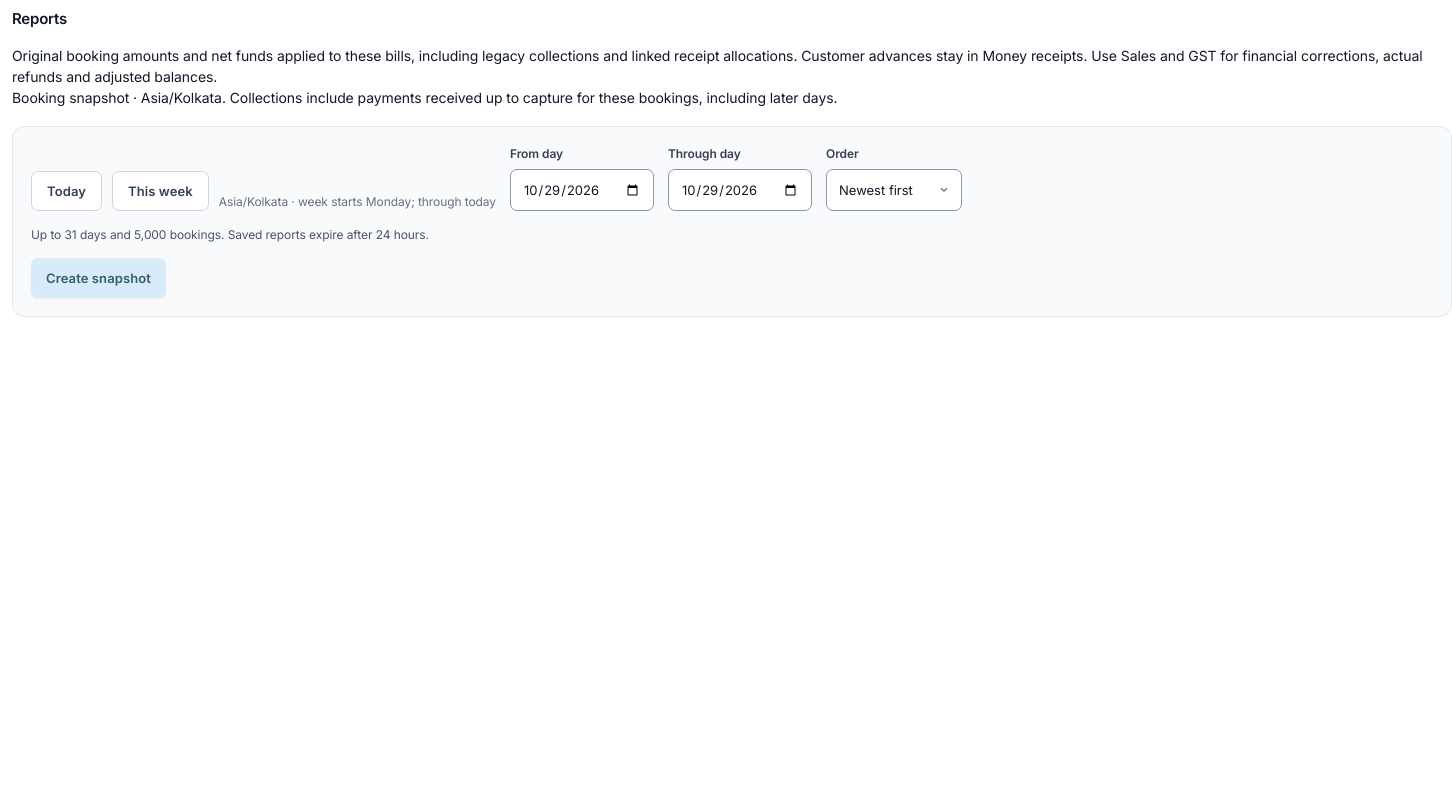
Test: saved report screen › keyboard form creates a snapshot and reloads its server totals with empty export
Type "2026-10-01" into the date field labelled "From day" at (582, 190), box [510,169,654,211]
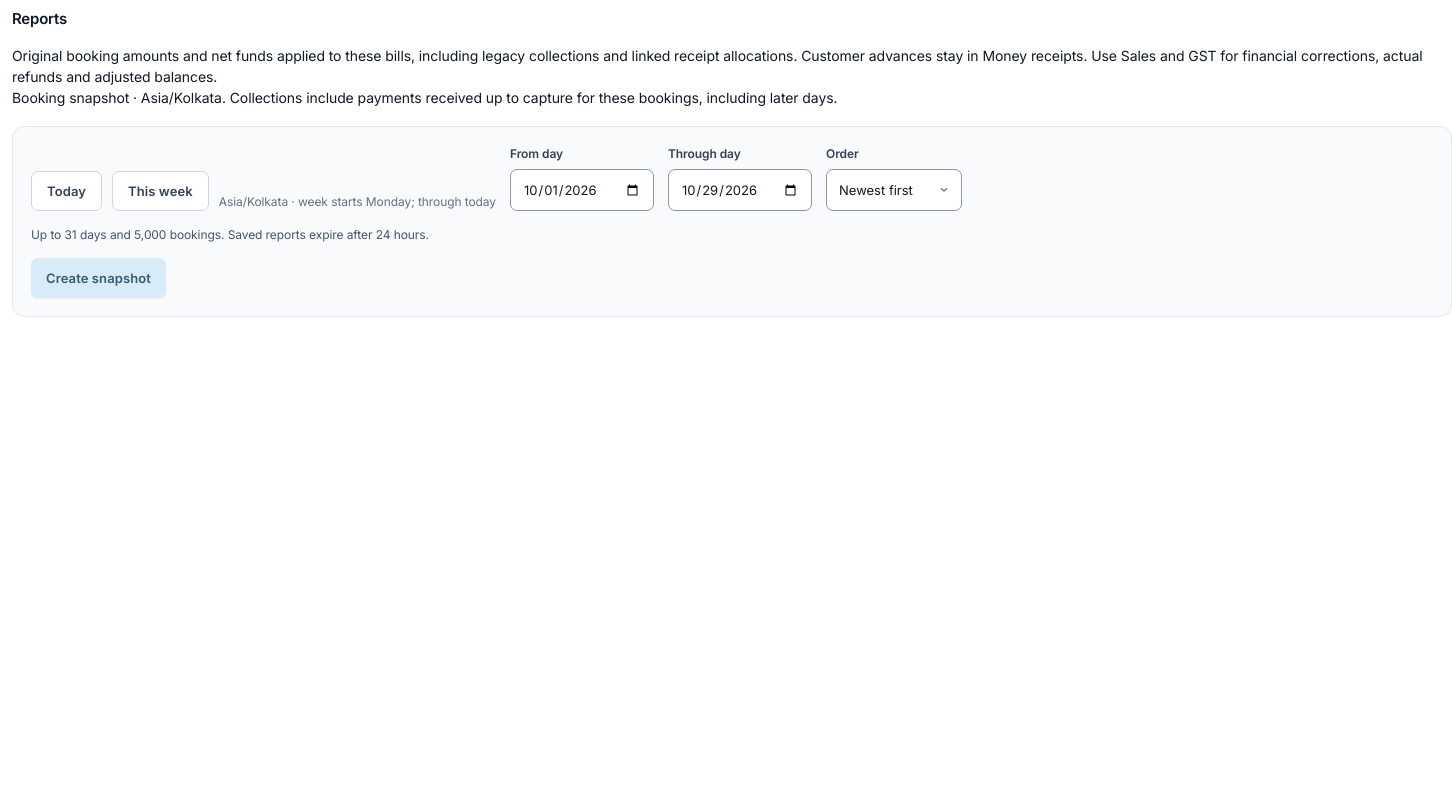
Type "2026-10-01" into the date field labelled "Through day" at (740, 190), box [668,169,812,211]
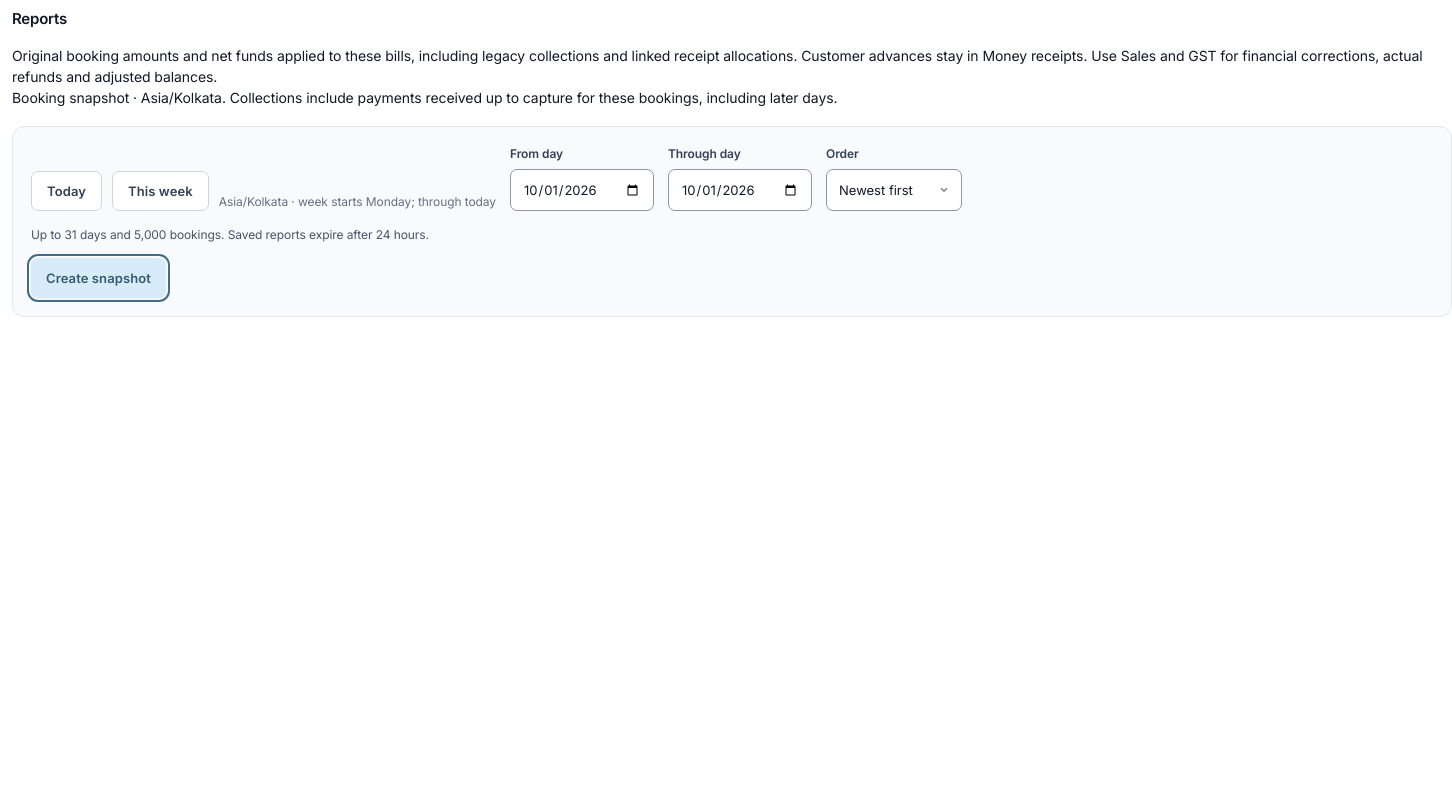
Submit the form named "Create snapshot", box [12,126,1451,317]
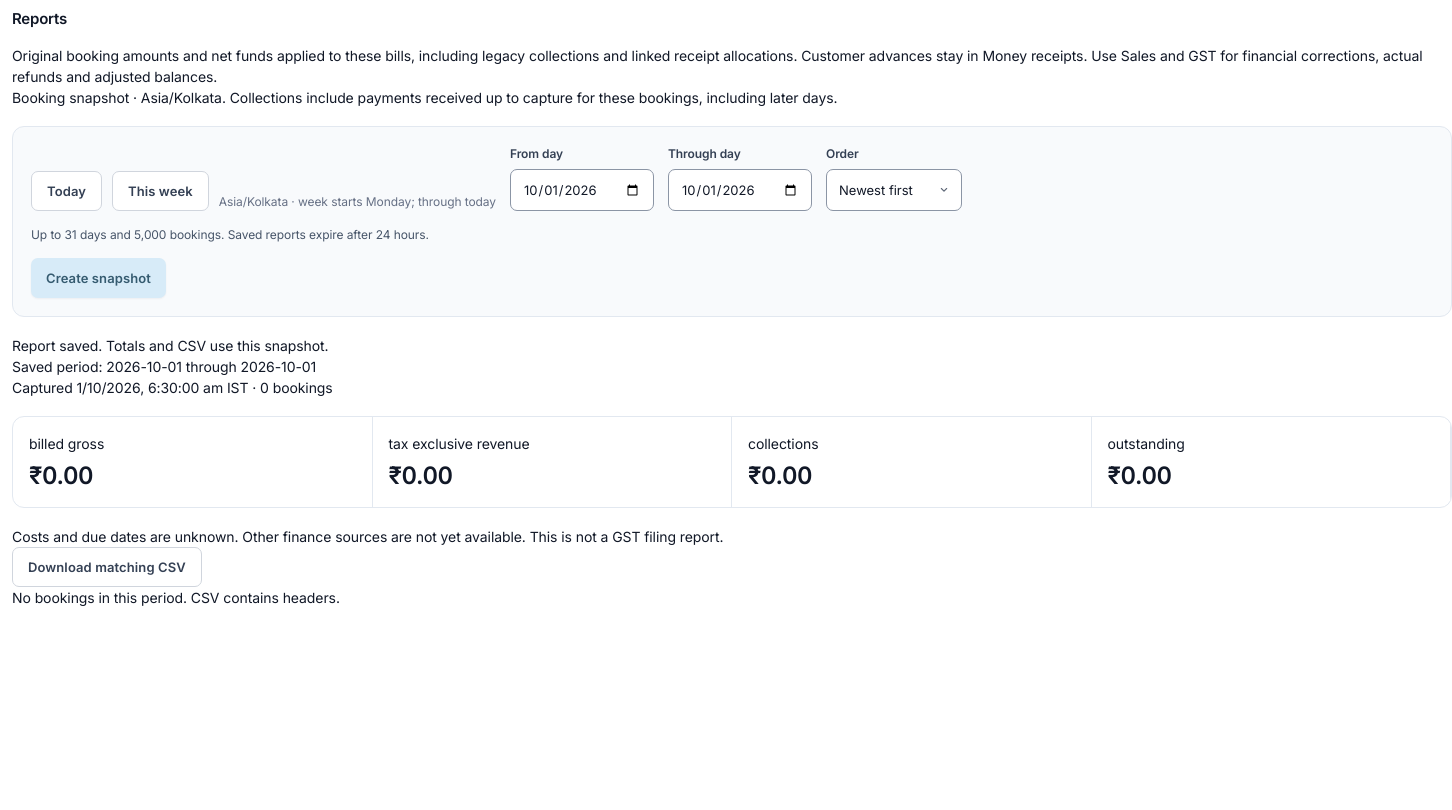
Expected: the text "No bookings in this period. CSV contains headers." is shown, [12,589,340,606]
Click the button "Download matching CSV" at (107, 567), box [12,547,202,587]
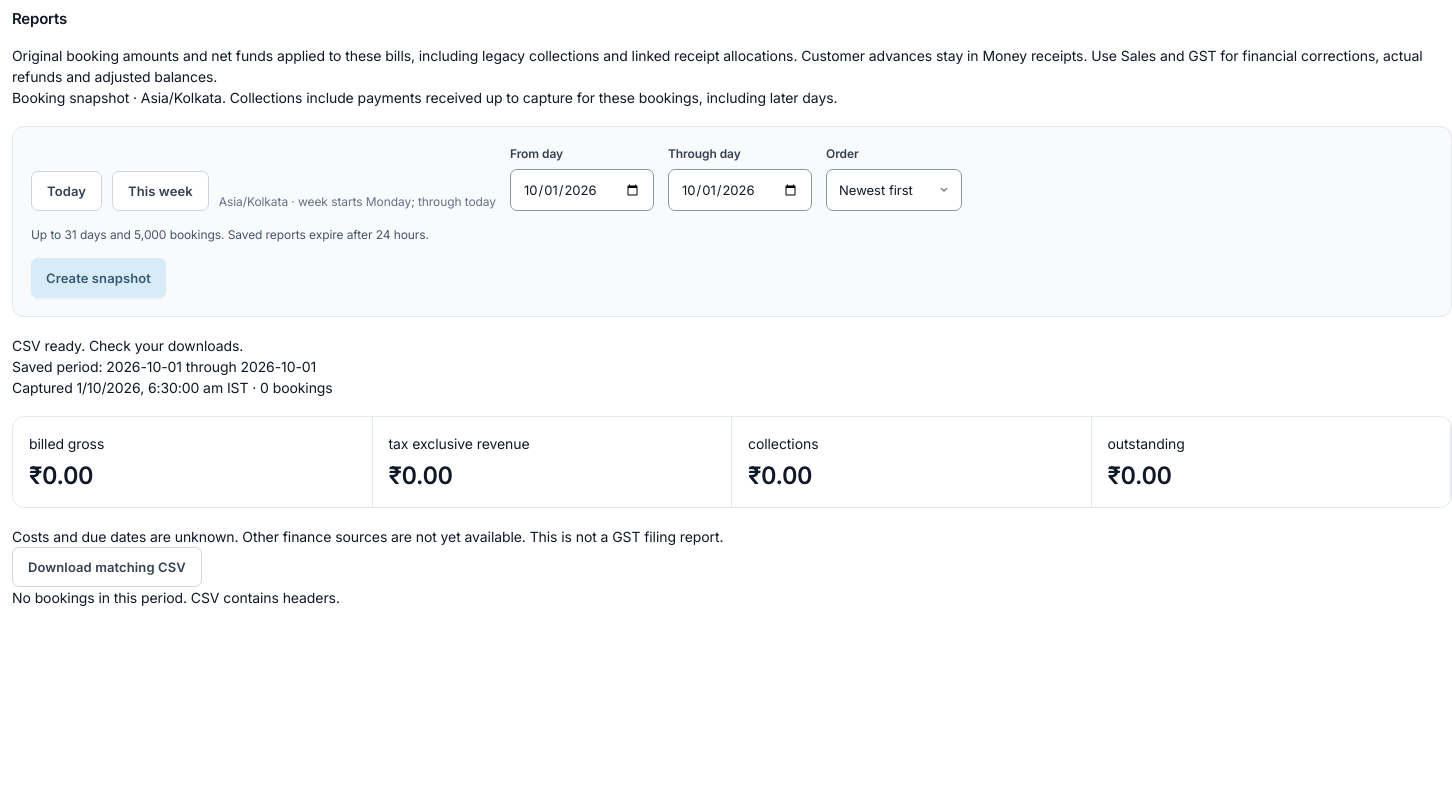
Expected: the text "CSV ready. Check your downloads." is shown, [12,337,243,354]
